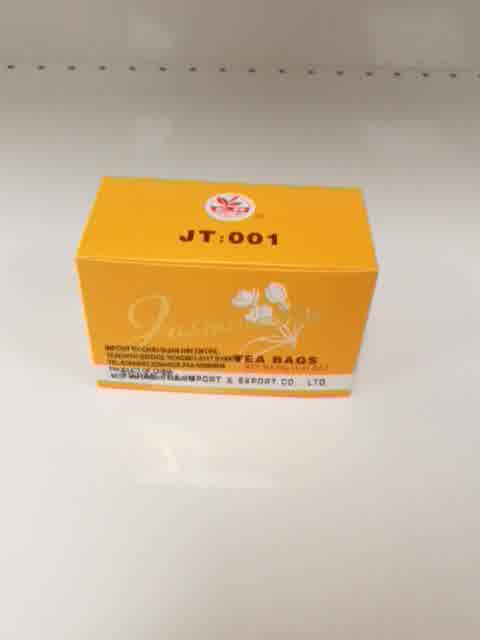jasminetea: (76, 175, 379, 400)
